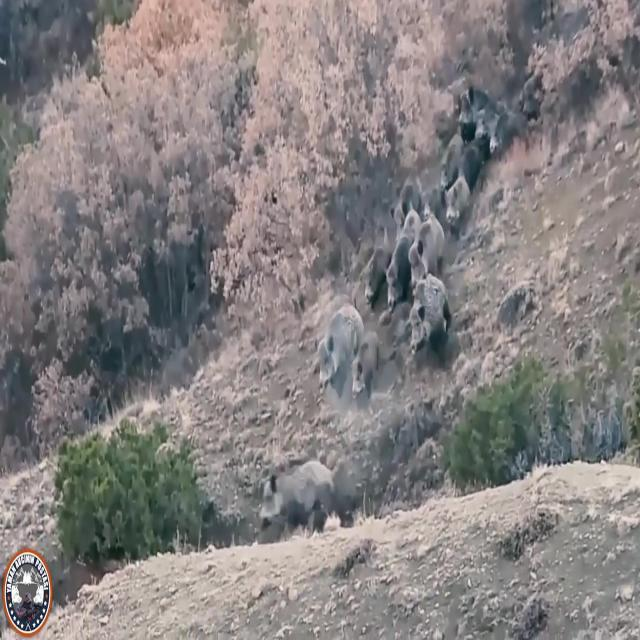pig: (259, 453, 342, 549), (312, 288, 373, 408), (406, 276, 454, 368), (409, 208, 451, 296), (356, 227, 391, 316), (384, 221, 417, 312), (350, 319, 383, 408), (444, 165, 476, 232)
